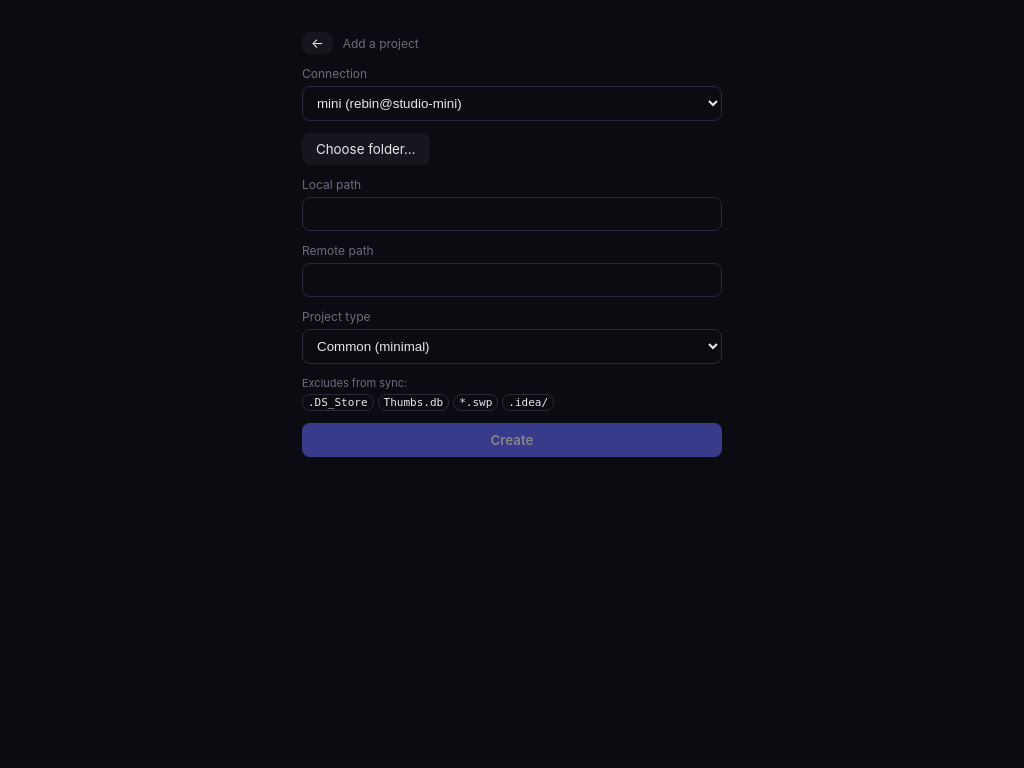
AddProject › on target_exists shows the modal, then Overwrite re-runs init copy with mode=overwrite
Step 1. Click the button with test id "pick-folder" → (366, 149), box [302, 133, 430, 165]
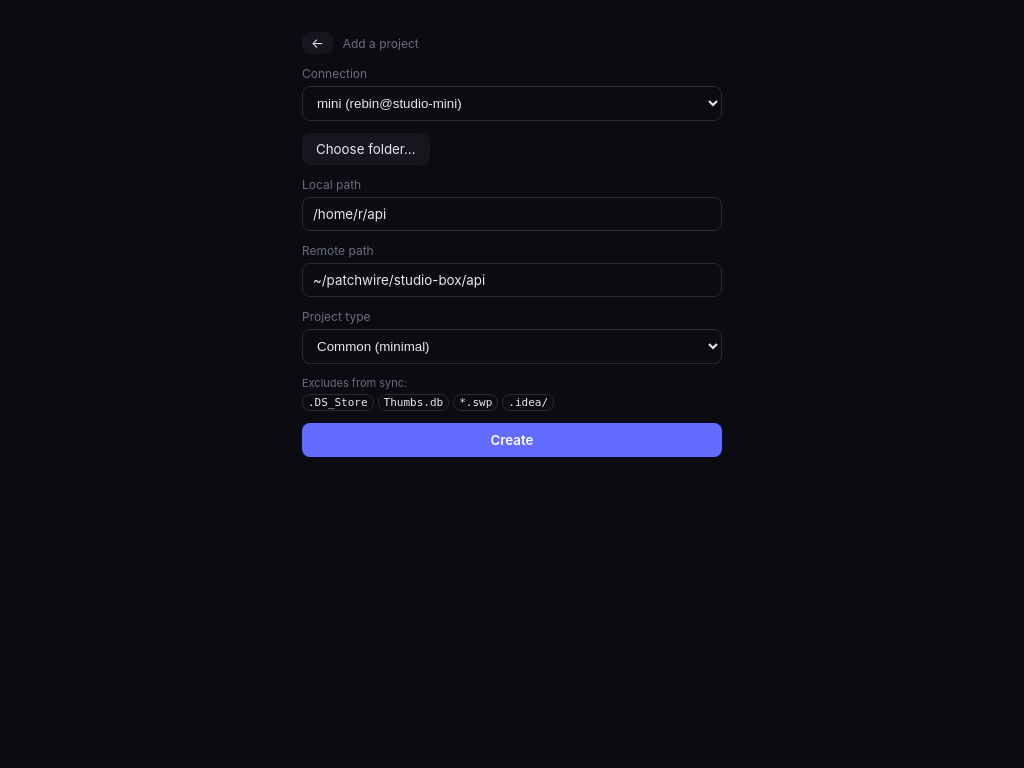
Step 2. Click the button with test id "create-project" → (512, 440), box [302, 423, 722, 457]
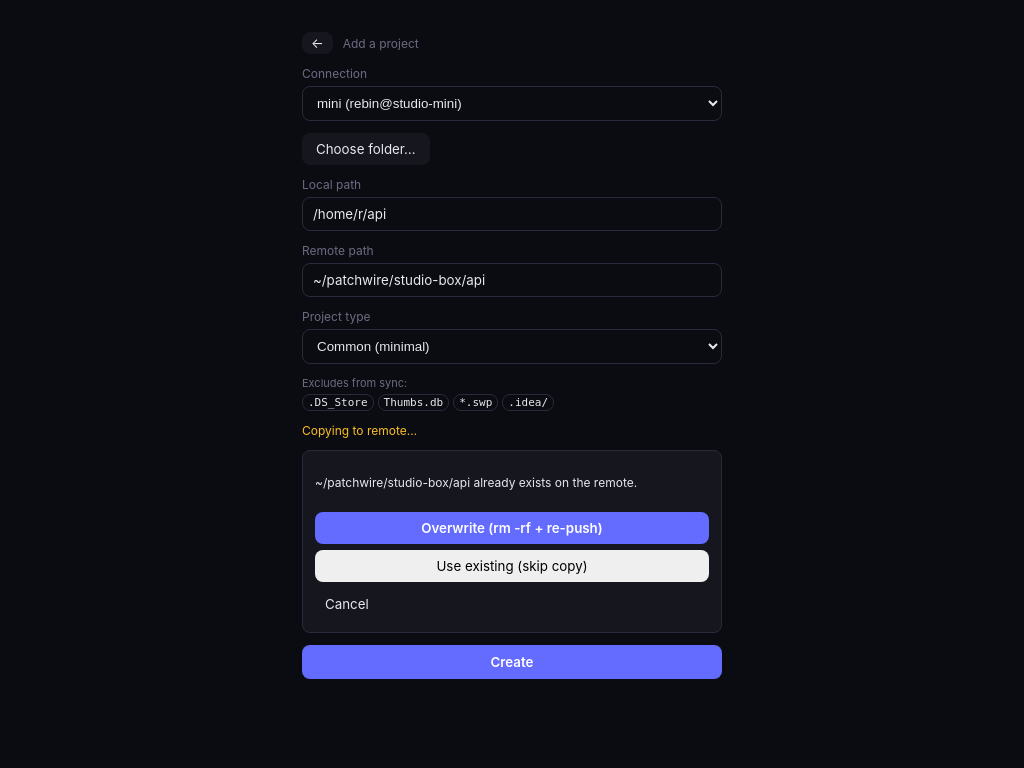
Expected: the dialog with test id "exists-modal" is shown, [302, 450, 722, 633]
Step 3. Click the button with test id "exists-overwrite" → (512, 528), box [315, 512, 709, 544]
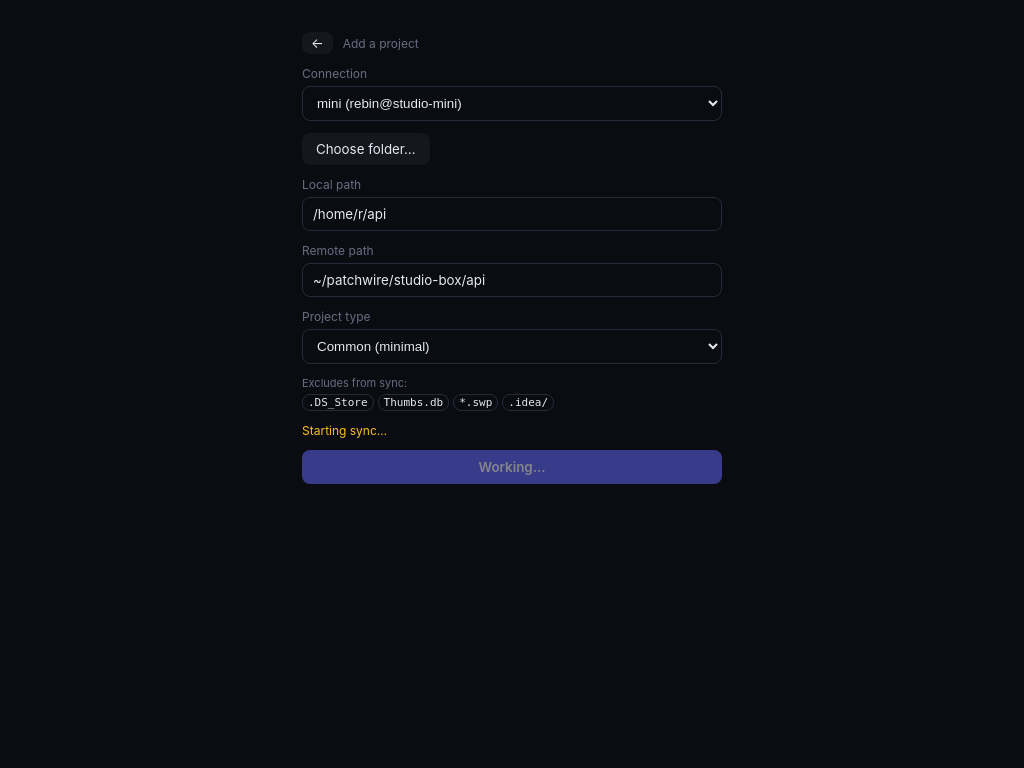
Expected: the dialog with test id "exists-modal" is gone
